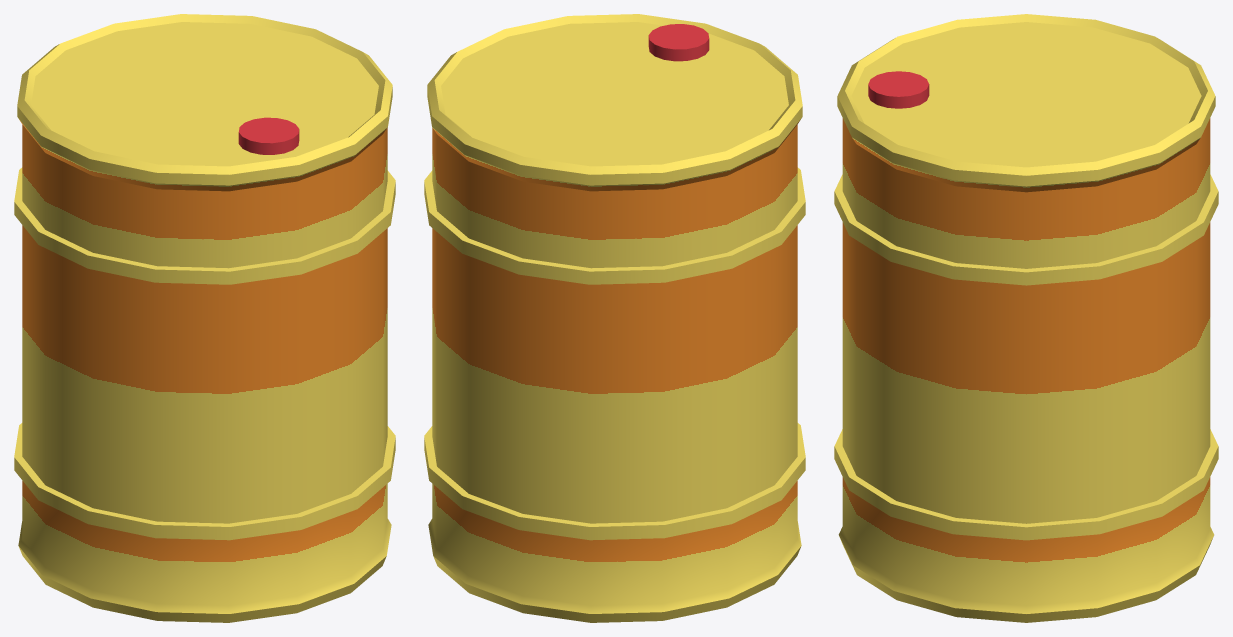
Rendered from Barril_01.fbx.
The picture shows the model from 3 angles, left to right: view 1: azimuth 30°, elevation 25°; view 2: azimuth 150°, elevation 25°; view 3: azimuth 270°, elevation 25°; orthographic projection.
Visible parts, largest first — view 1: Barril_01; view 2: Barril_01; view 3: Barril_01.
Boxes of the visible parts, x1,y1,x2,y2 form: Barril_01: (14,14,395,622); Barril_01: (424,14,805,622); Barril_01: (834,14,1218,622).
Size of the model in its own units: 153 by 204 by 153.
